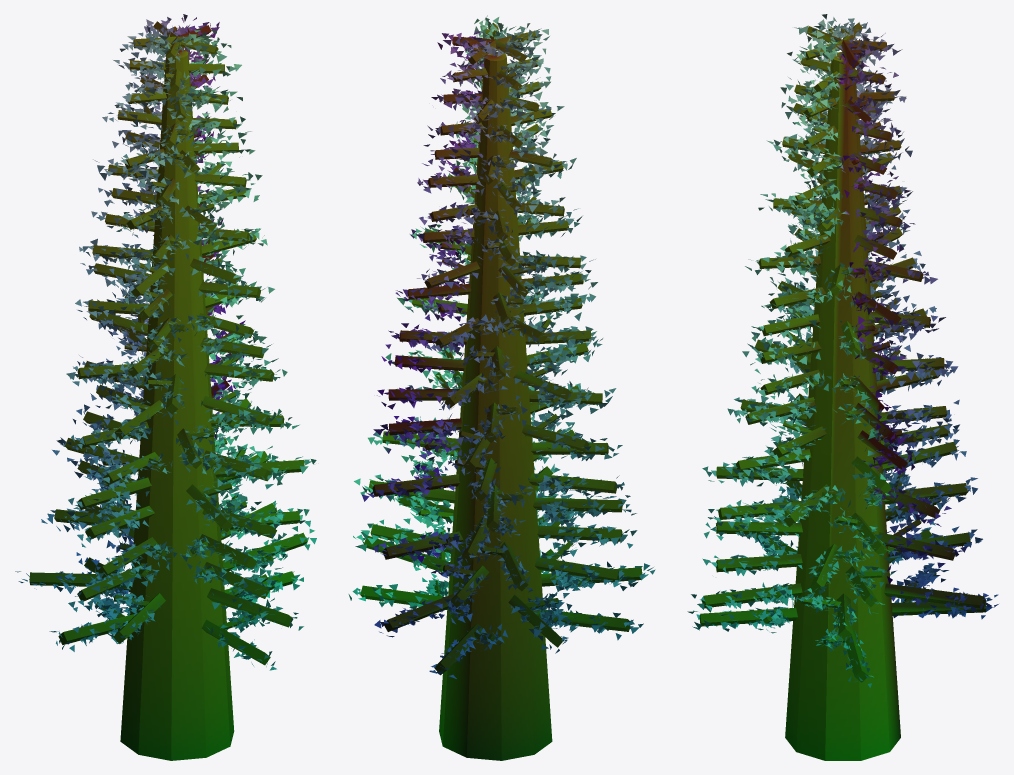
File: ecological_conifer_ancient_02.glb
3 views of the same model, side by side, from view 1: azimuth 30°, elevation 25°; view 2: azimuth 150°, elevation 25°; view 3: azimuth 270°, elevation 25° (orthographic).
Visible parts, largest first — view 1: ecological_conifer_ancient_02; view 2: ecological_conifer_ancient_02; view 3: ecological_conifer_ancient_02.
Part boxes in pixels (bbox=[...]): ecological_conifer_ancient_02: bbox=[15, 14, 316, 760]; ecological_conifer_ancient_02: bbox=[348, 15, 655, 760]; ecological_conifer_ancient_02: bbox=[687, 14, 998, 760].
Size of the model in its own units: 35.78 by 88.11 by 35.55.
